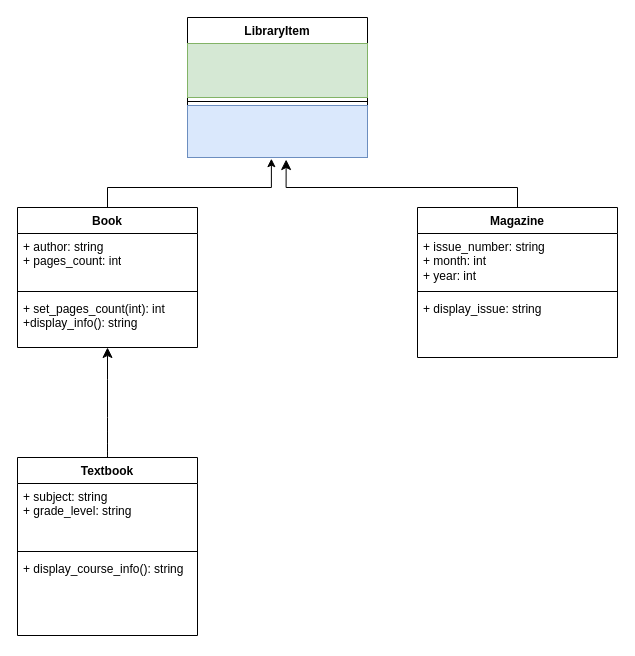
This 635x656 diagram has some shape labels left out. The centre of each missing label's shape, as x and y in pixels:
+ get_status(): string + check_out(): bool + return_item(): bool: the point at 277,131
+ title: string # item_id: string - checked_out: bool: the point at 277,70
